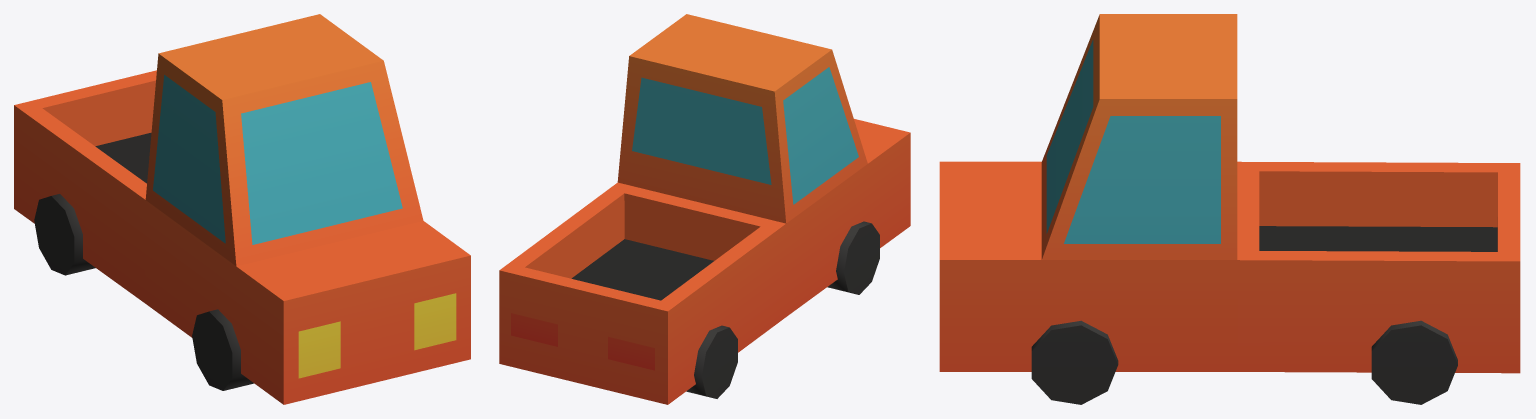
Rendered from Car_1_5.fbx.
3 views of the same model, side by side, from view 1: azimuth 30°, elevation 25°; view 2: azimuth 150°, elevation 25°; view 3: azimuth 270°, elevation 25° (orthographic). The views are drawn at different scales.
Visible parts, largest first — view 1: Car_1_5; view 2: Car_1_5; view 3: Car_1_5.
Part boxes in pixels (<box>): Car_1_5: <box>14,14,470,404</box>; Car_1_5: <box>499,14,910,404</box>; Car_1_5: <box>939,14,1520,404</box>.
Bounding box in the file's own units: 211 × 270 × 483.
